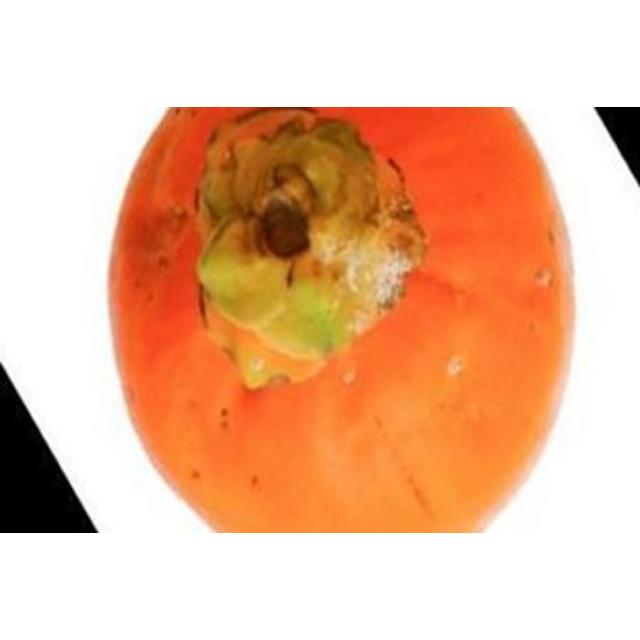good: (105, 107, 579, 532)
